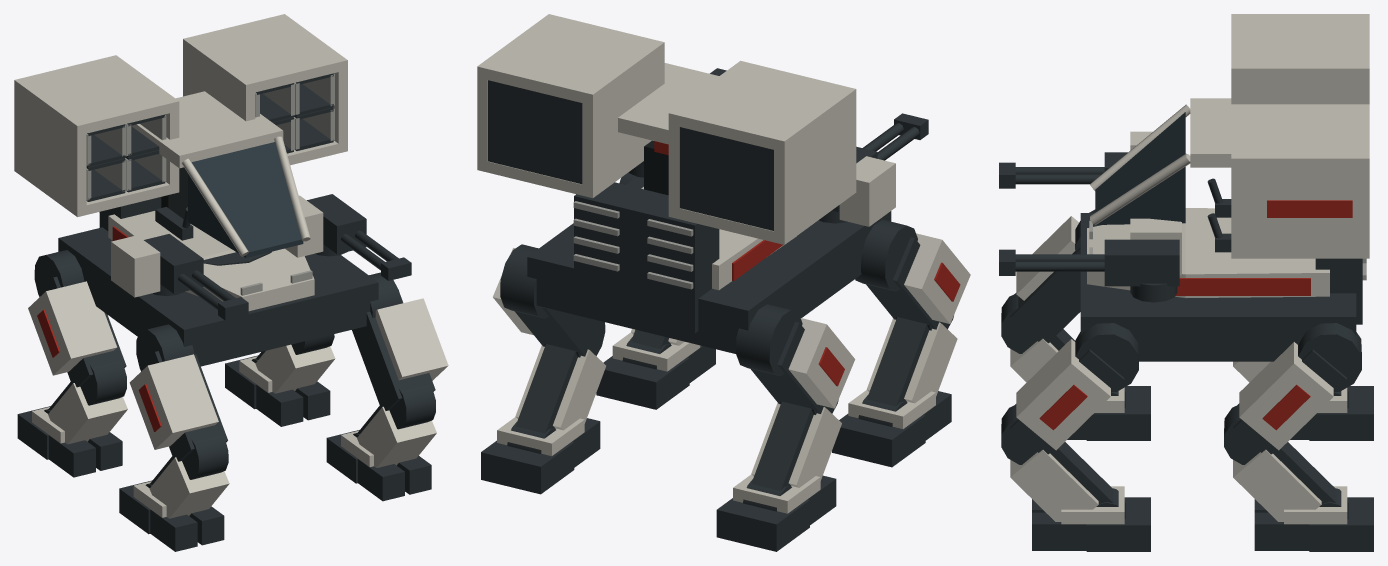
The picture shows the model from 3 angles, left to right: view 1: azimuth 30°, elevation 25°; view 2: azimuth 150°, elevation 25°; view 3: azimuth 270°, elevation 25°; orthographic projection. The views are drawn at different scales.
Parts seen in each view (by area): view 1: mech-torso-painted, mech-silo-left-painted, mech-silo-right-painted, mech-hip-1-painted, mech-hip-0-painted, mech-hip-3-painted, mech-mg-pitch-left-painted, mech-mg-pitch-right-painted, mech-knee-1-painted, mech-knee-0-painted, mech-knee-3-painted, mech-ankle-1-painted (+5 smaller); view 2: mech-torso-painted, mech-silo-left-painted, mech-silo-right-painted, mech-hip-0-painted, mech-hip-1-painted, mech-ankle-0-painted, mech-ankle-2-painted, mech-ankle-1-painted, mech-knee-2-painted, mech-ankle-3-painted, mech-knee-0-painted, mech-knee-1-painted (+3 smaller); view 3: mech-torso-painted, mech-silo-right-painted, mech-silo-left-painted, mech-hip-3-painted, mech-hip-2-painted, mech-mg-pitch-right-painted, mech-knee-3-painted, mech-knee-2-painted, mech-ankle-2-painted, mech-ankle-3-painted, mech-hip-1-painted, mech-ankle-0-painted (+6 smaller).
Part boxes in pixels (x1,y1,x2,y2): mech-torso-painted: (58,91,378,366); mech-silo-left-painted: (14,55,179,217); mech-silo-right-painted: (183,14,347,165); mech-hip-1-painted: (129,324,227,461); mech-hip-0-painted: (28,250,126,387); mech-hip-3-painted: (352,272,448,410); mech-mg-pitch-left-painted: (111,234,248,320); mech-mg-pitch-right-painted: (285,194,411,280); mech-knee-1-painted: (149,431,229,518); mech-knee-0-painted: (48,357,127,444); mech-knee-3-painted: (357,381,436,467); mech-ankle-1-painted: (119,480,224,551); mech-torso-painted: (527,63,891,353); mech-silo-left-painted: (668,60,856,244); mech-silo-right-painted: (477,14,664,198); mech-hip-0-painted: (736,304,855,413); mech-hip-1-painted: (855,219,970,329); mech-ankle-0-painted: (716,474,836,551); mech-ankle-2-painted: (481,417,600,494); mech-ankle-1-painted: (832,390,951,467); mech-knee-2-painted: (515,321,605,433); mech-ankle-3-painted: (596,332,715,409); mech-knee-0-painted: (751,399,841,490); mech-knee-1-painted: (866,316,957,406); mech-torso-painted: (1080,98,1366,361); mech-silo-right-painted: (1231,104,1369,258); mech-silo-left-painted: (1231,14,1369,104); mech-hip-3-painted: (1010,323,1138,454); mech-hip-2-painted: (1233,323,1361,454); mech-mg-pitch-right-painted: (999,218,1181,286); mech-knee-3-painted: (1001,404,1113,521); mech-knee-2-painted: (1224,404,1336,521); mech-ankle-2-painted: (1254,486,1373,551); mech-ankle-3-painted: (1032,486,1150,551); mech-hip-1-painted: (1010,209,1095,343); mech-ankle-0-painted: (1290,386,1373,440).
Bounding box in the file's own units: 13.63 × 16.84 × 14.45.
